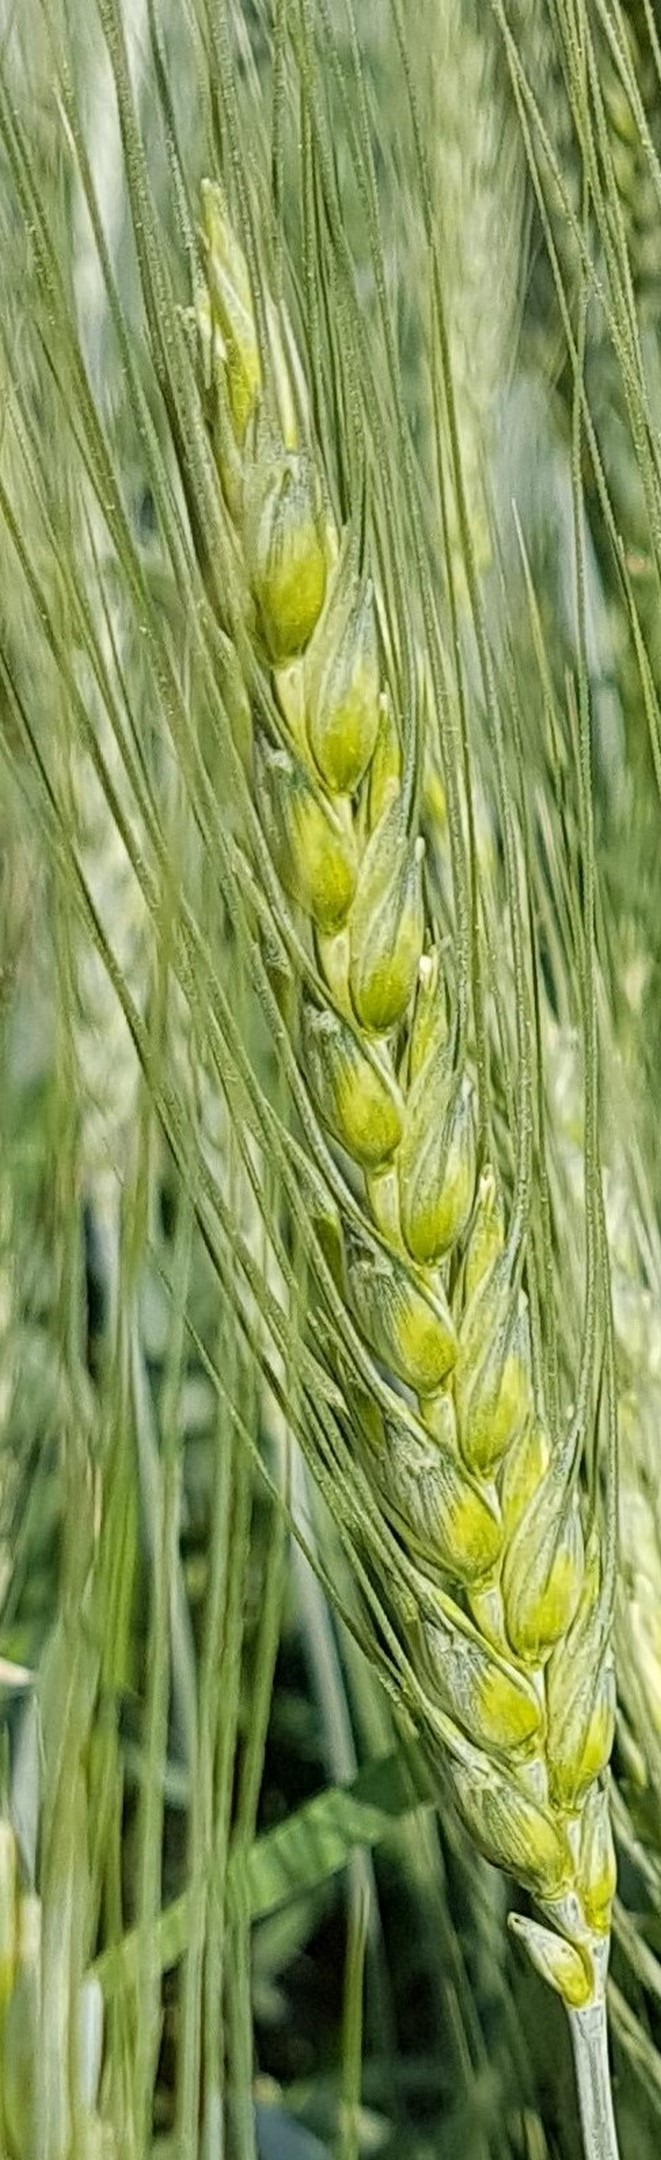Healthy Wheat: (113, 231, 661, 1908)
